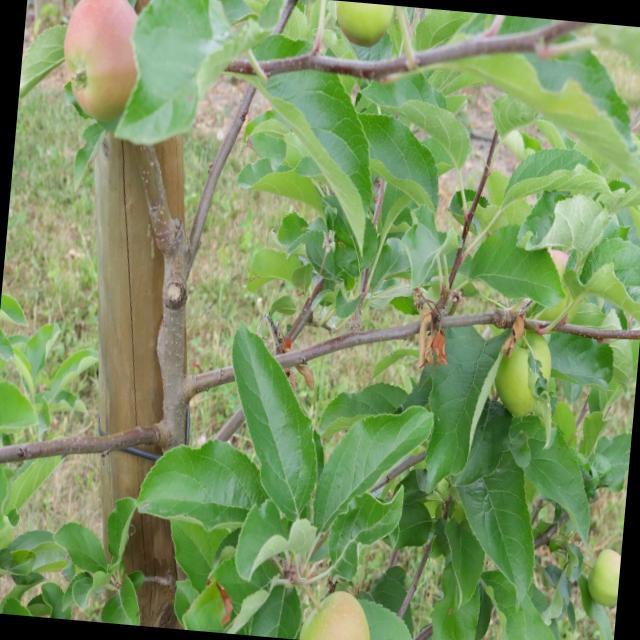-FireBlight-: (419, 295, 458, 366), (500, 316, 524, 346)
